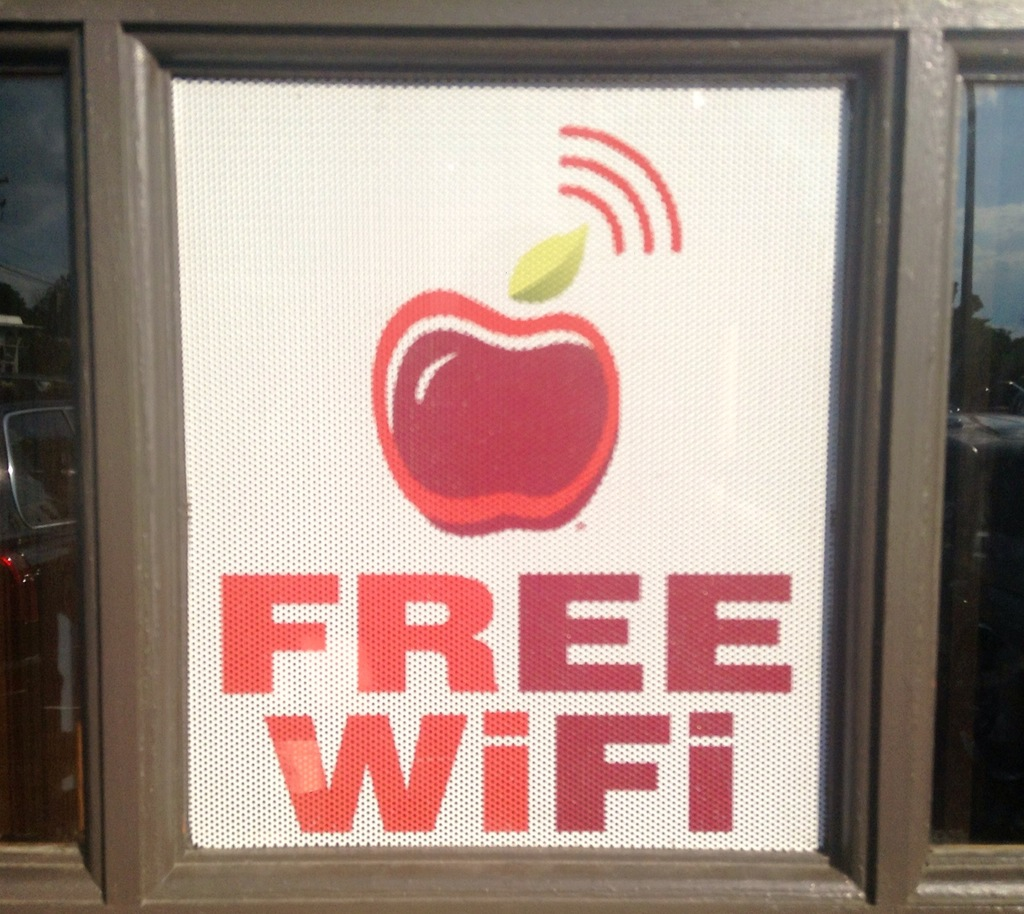Apple: (385, 297, 630, 564)
